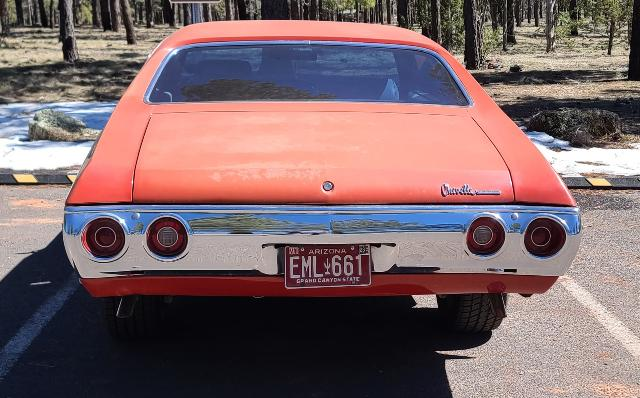chevelle-1972: (61, 20, 581, 340)
